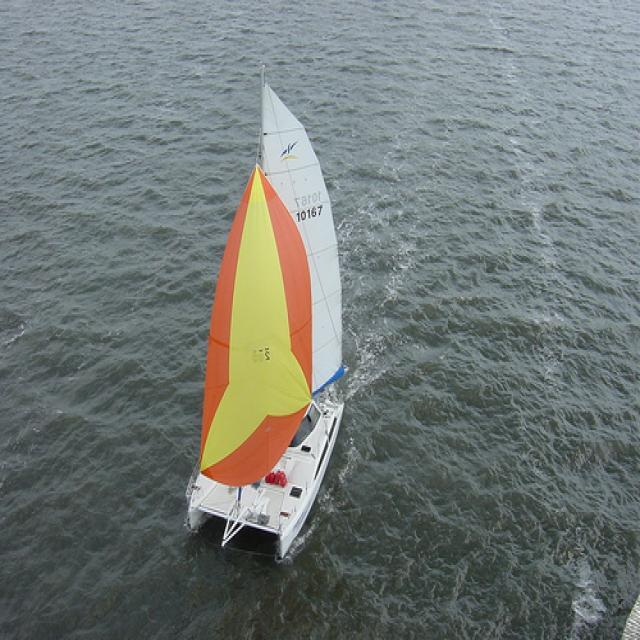Ship: (189, 81, 353, 558)
